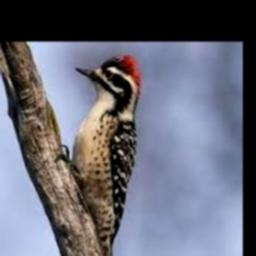Woodpecker: (56, 55, 143, 256)
